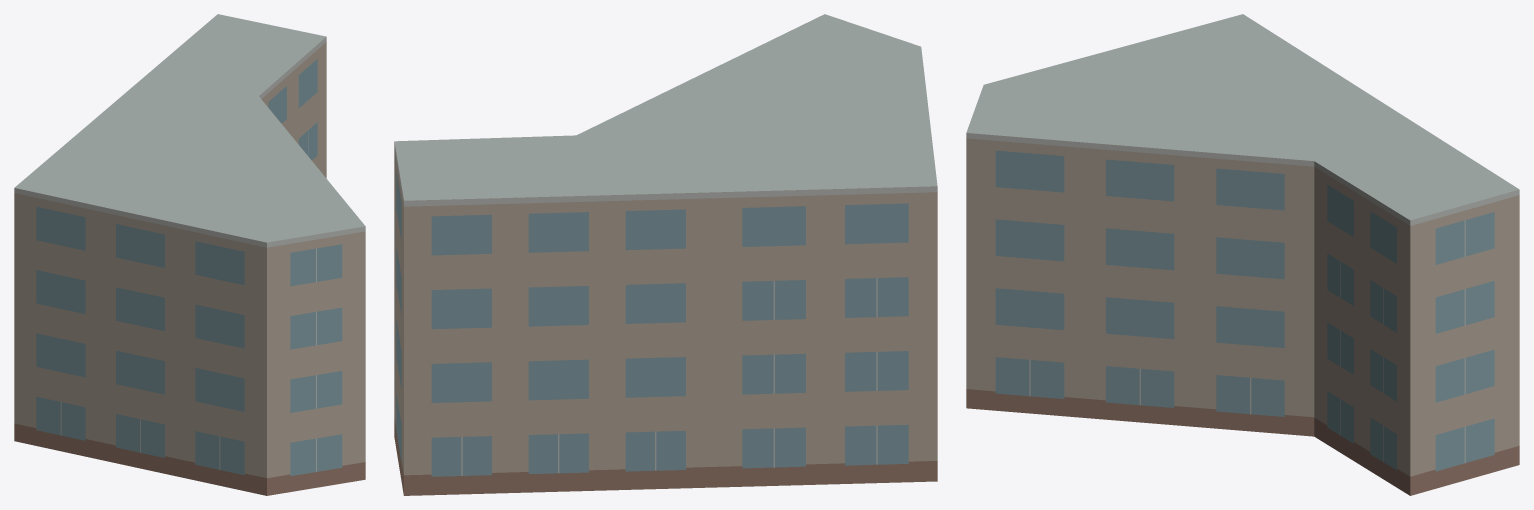
File: survey-upis-32688057.glb
3 renders of one model, left to right at view 1: azimuth 30°, elevation 25°; view 2: azimuth 150°, elevation 25°; view 3: azimuth 270°, elevation 25°, orthographic. The views are drawn at different scales.
Parts seen in each view (by area): view 1: survey-upis-32688057.tmp; view 2: survey-upis-32688057.tmp; view 3: survey-upis-32688057.tmp.
Boxes of the visible parts, x1,y1,x2,y2 form: survey-upis-32688057.tmp: (14, 14, 365, 495); survey-upis-32688057.tmp: (394, 14, 937, 495); survey-upis-32688057.tmp: (966, 14, 1519, 495).
Size of the model in its own units: 19.63 by 12.2 by 22.23.
